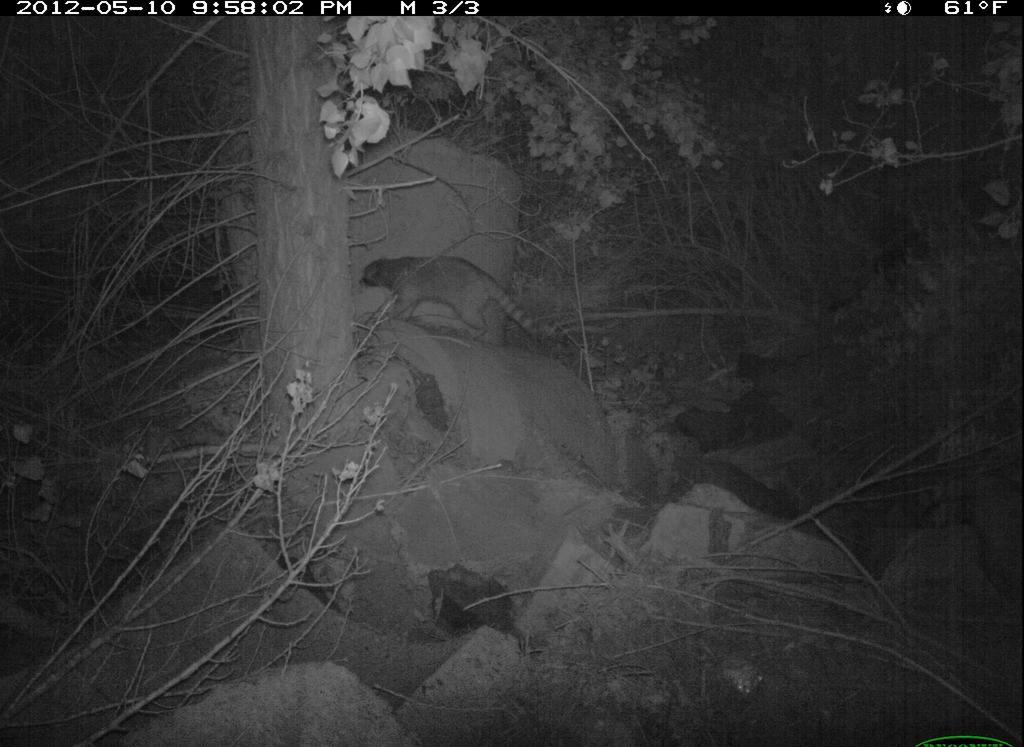raccoon: (350, 242, 561, 358)
